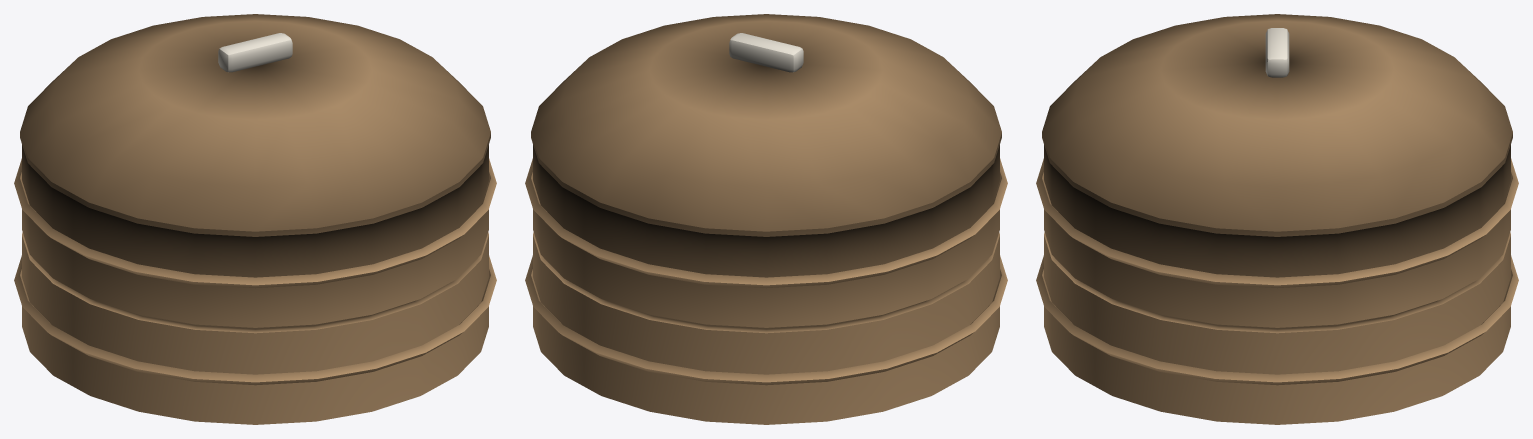
The model's file is cook_steamer.glb.
The picture shows the model from 3 angles, left to right: view 1: azimuth 30°, elevation 25°; view 2: azimuth 150°, elevation 25°; view 3: azimuth 270°, elevation 25°; orthographic projection.
Visible parts, largest first — view 1: PART; view 2: PART; view 3: PART.
Boxes of the visible parts, x1,y1,x2,y2 form: PART: [14, 14, 496, 424]; PART: [525, 14, 1007, 424]; PART: [1036, 14, 1518, 424].
Bounding box in the file's own units: 0.248 × 0.161 × 0.248.
